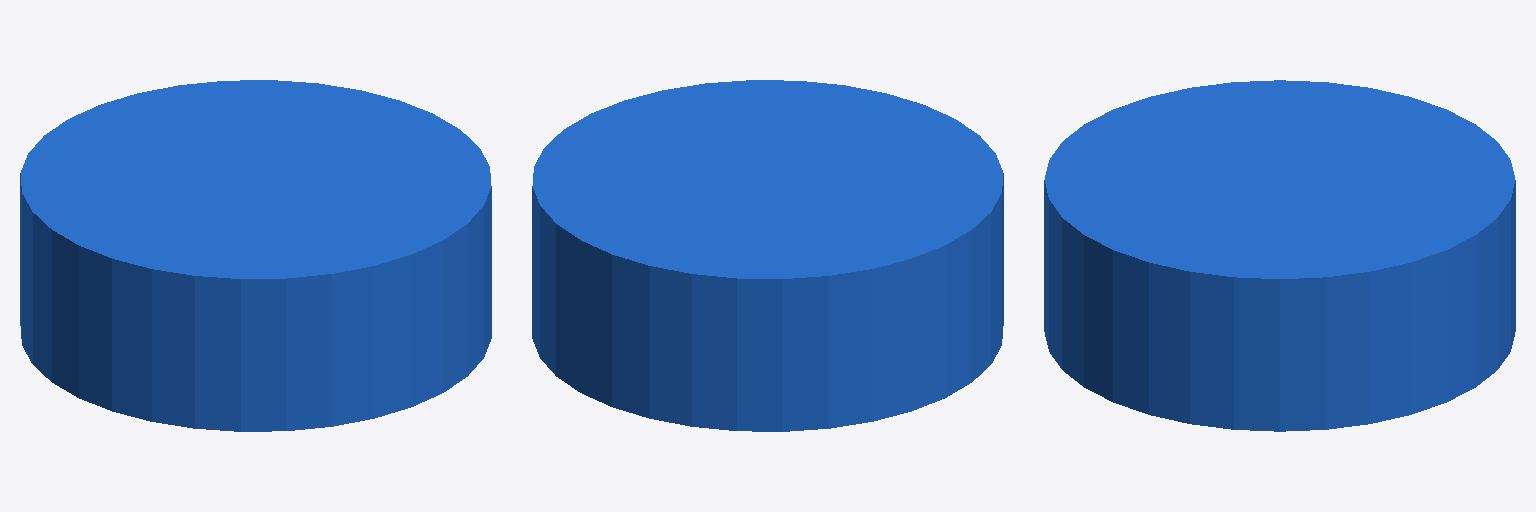
The robot description file, URDF, robot "Tiago Webots":
<?xml version="1.0" ?>
<robot name="Tiago Webots">
    <link name="base_link"><visual><geometry><cylinder radius="0.28" length="0.20"/></geometry><material name="blue"><color rgba="0.2 0.5 0.9 0.8"/></material></visual></link>
    <!-- A valid initial description is required by Jazzy ros2_control before
         Webots replaces it with the complete generated robot description. -->
    <link name="wheel_right_link"/>
    <joint name="wheel_right_joint" type="continuous">
        <parent link="base_link"/><child link="wheel_right_link"/>
        <origin xyz="0 -0.2022 0"/><axis xyz="0 1 0"/>
    </joint>
    <link name="wheel_left_link"/>
    <joint name="wheel_left_joint" type="continuous">
        <parent link="base_link"/><child link="wheel_left_link"/>
        <origin xyz="0 0.2022 0"/><axis xyz="0 1 0"/>
    </joint>
    <webots>
        <device reference="hokuyo" type="Lidar">
            <ros>
                <enabled>true</enabled>
                <updateRate>10</updateRate>
                <topicName>/scan</topicName>
                <alwaysOn>true</alwaysOn>
                <frameName>hokuyo</frameName>
            </ros>
        </device>
        <plugin type="webots_ros2_control::Ros2Control" />
    </webots>
    <ros2_control name="WebotsControl" type="system">
        <hardware>
            <plugin>webots_ros2_control::Ros2ControlSystem</plugin>
        </hardware>
        <joint name="wheel_right_joint">
            <state_interface name="position"/>
            <command_interface name="velocity"/>
        </joint>
        <joint name="wheel_left_joint">
            <state_interface name="position"/>
            <command_interface name="velocity"/>
        </joint>
    </ros2_control>
</robot>

--- What the picture shows (computed from the rendered views, not written in the file) ---
3 views of the same robot in one strip: view 1: azimuth 30°, elevation 25°; view 2: azimuth 150°, elevation 25°; view 3: azimuth 270°, elevation 25° (orthographic).
Model Tiago Webots with 3 links and 2 joints (2 continuous), rooted at base_link, posed every joint at zero.
Visible links, largest first — view 1: base_link; view 2: base_link; view 3: base_link.
Link boxes in pixels (left/top/right/bottom): base_link: left=20, top=80, right=491, bottom=431; base_link: left=532, top=80, right=1003, bottom=431; base_link: left=1044, top=80, right=1515, bottom=431.
Bounding box of the posed robot: 0.56 × 0.56 × 0.2 m (x, y, z).
Geometry: primitives only (box / cylinder / sphere), no mesh files.
